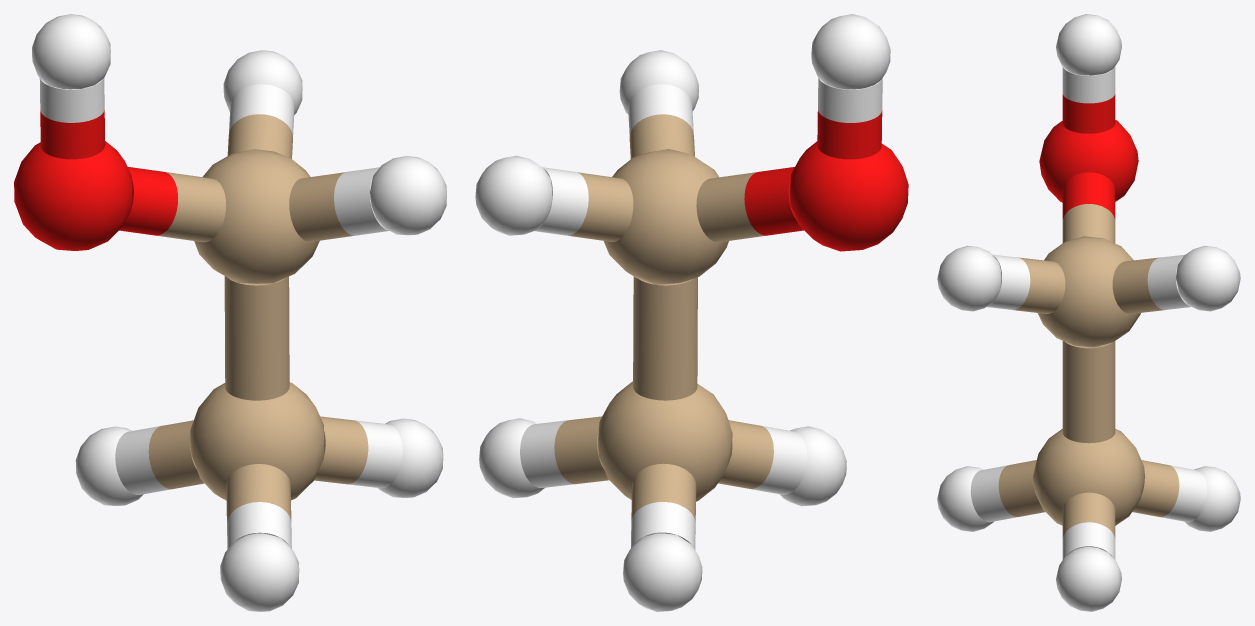
Rendered from EtOH.dae.
3 renders of one model, left to right at view 1: azimuth 30°, elevation 25°; view 2: azimuth 150°, elevation 25°; view 3: azimuth 270°, elevation 25°, orthographic. The views are drawn at different scales.
Parts seen in each view (by area): view 1: subnode_1, subnode_0, subnode_2, subnode_9, subnode_4, subnode_6, subnode_8, subnode_16, subnode_3, subnode_5, subnode_18, subnode_17 (+12 smaller); view 2: subnode_1, subnode_0, subnode_2, subnode_9, subnode_5, subnode_7, subnode_8, subnode_16, subnode_3, subnode_4, subnode_20, subnode_17 (+12 smaller); view 3: subnode_0, subnode_1, subnode_9, subnode_2, subnode_3, subnode_7, subnode_6, subnode_8, subnode_4, subnode_5, subnode_18, subnode_20 (+12 smaller).
Part boxes in pixels (bbox=[...]): subnode_1: bbox=[194, 149, 319, 283]; subnode_0: bbox=[190, 382, 324, 500]; subnode_2: bbox=[14, 141, 132, 250]; subnode_9: bbox=[224, 276, 289, 400]; subnode_4: bbox=[220, 533, 299, 611]; subnode_6: bbox=[370, 156, 446, 235]; subnode_8: bbox=[32, 14, 110, 89]; subnode_16: bbox=[157, 172, 226, 242]; subnode_3: bbox=[378, 418, 443, 497]; subnode_5: bbox=[75, 426, 143, 506]; subnode_18: bbox=[289, 172, 353, 241]; subnode_17: bbox=[119, 167, 177, 235]; subnode_1: bbox=[603, 149, 728, 284]; subnode_0: bbox=[597, 381, 732, 501]; subnode_2: bbox=[789, 141, 908, 251]; subnode_9: bbox=[633, 277, 697, 400]; subnode_5: bbox=[623, 533, 702, 611]; subnode_7: bbox=[475, 155, 552, 235]; subnode_8: bbox=[811, 14, 890, 89]; subnode_16: bbox=[696, 172, 765, 242]; subnode_3: bbox=[479, 418, 544, 498]; subnode_4: bbox=[780, 426, 846, 506]; subnode_20: bbox=[568, 172, 633, 241]; subnode_17: bbox=[744, 167, 803, 235]; subnode_0: bbox=[1032, 429, 1145, 525]; subnode_1: bbox=[1037, 236, 1140, 347]; subnode_9: bbox=[1062, 341, 1115, 443]; subnode_2: bbox=[1039, 120, 1138, 202]; subnode_3: bbox=[1056, 547, 1121, 611]; subnode_7: bbox=[1176, 245, 1240, 311]; subnode_6: bbox=[937, 245, 1001, 311]; subnode_8: bbox=[1056, 14, 1121, 75]; subnode_4: bbox=[937, 466, 993, 531]; subnode_5: bbox=[1184, 466, 1240, 531]; subnode_18: bbox=[1013, 257, 1065, 313]; subnode_20: bbox=[1112, 257, 1164, 313].
Size of the model in its own units: 2.99 by 3.88 by 2.29.
